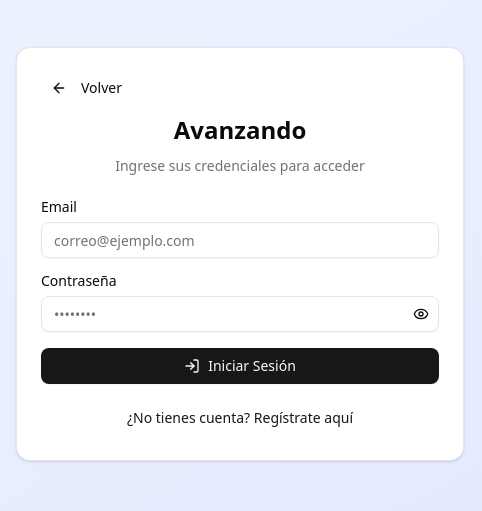
Test: Login Component › shows error message on failed login
Type "test@example.com" into the field labelled "Email".
click(240, 240); type("test@example.com")  # box [41, 222, 439, 258]
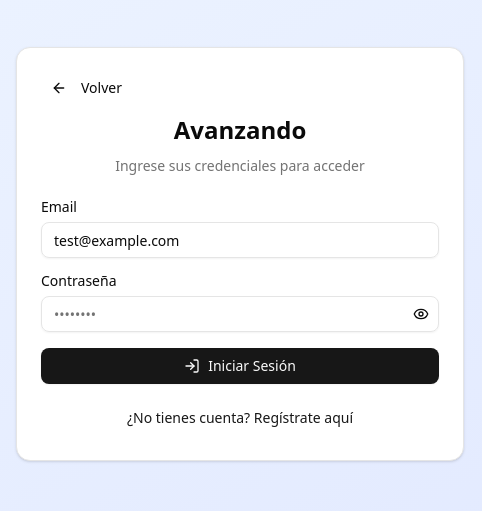
Type "wrongpassword" into the password field labelled "Contraseña".
click(240, 314); type("wrongpassword")  # box [41, 296, 439, 332]
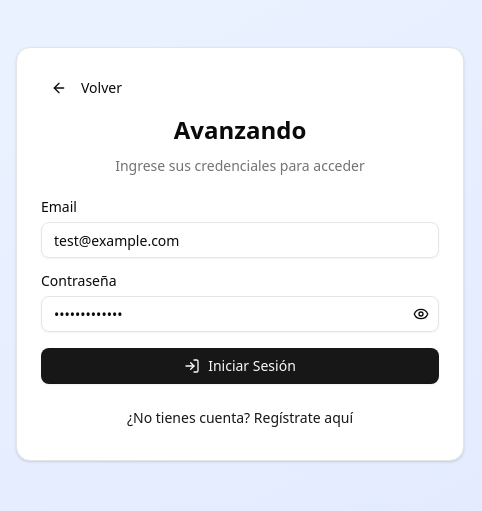
Click the button "Iniciar Sesión".
click(240, 366)  # box [41, 348, 439, 384]
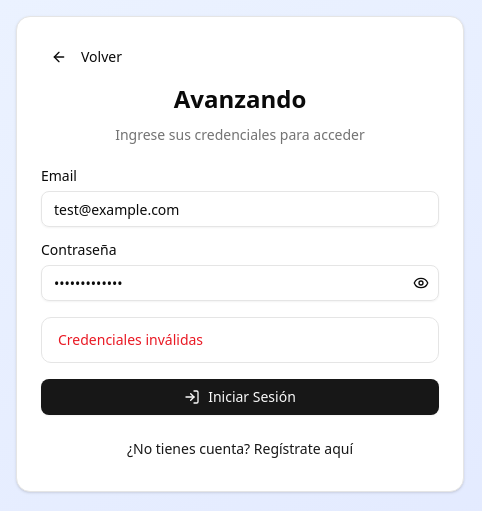
Expected: the text "Credenciales inválidas" is shown, [58, 330, 203, 349]
